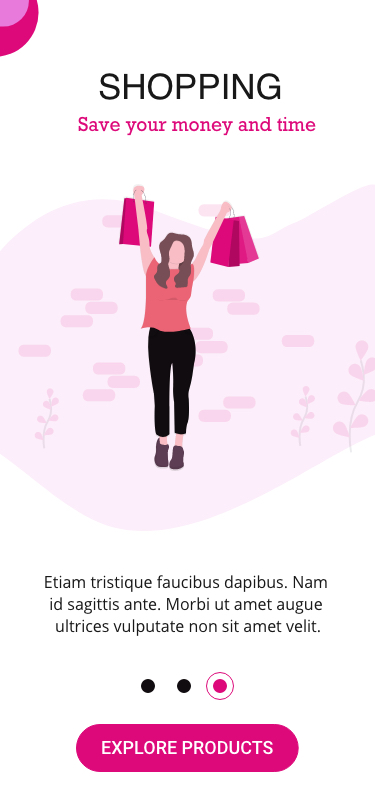Image: (1, 184, 375, 532)
PageIndicator: (140, 671, 236, 702)
Text: (45, 574, 328, 637), (100, 73, 282, 102), (78, 117, 317, 137)
TextButton: (76, 724, 300, 772)
